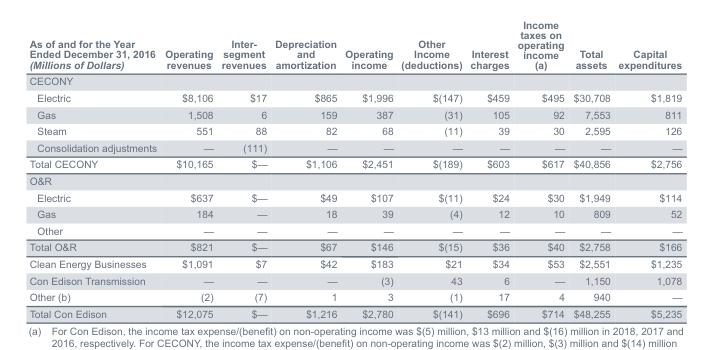table: (28, 28, 681, 318)
table column: (28, 28, 160, 318), (270, 28, 340, 318), (396, 28, 465, 318), (613, 28, 681, 318), (160, 28, 216, 318), (340, 28, 396, 318), (513, 28, 568, 318), (216, 28, 270, 318), (465, 28, 513, 318), (568, 28, 613, 318)
table column header: (28, 28, 681, 72)
table projected row header: (28, 72, 681, 89), (28, 172, 681, 188)
table row: (28, 28, 681, 72), (28, 72, 681, 89), (28, 105, 681, 122), (28, 138, 681, 155), (28, 155, 681, 172), (28, 188, 681, 205), (28, 221, 681, 238), (28, 238, 681, 255), (28, 271, 681, 288), (28, 89, 681, 105), (28, 122, 681, 138), (28, 172, 681, 188), (28, 205, 681, 221), (28, 255, 681, 271), (28, 288, 681, 304), (28, 304, 681, 318)
